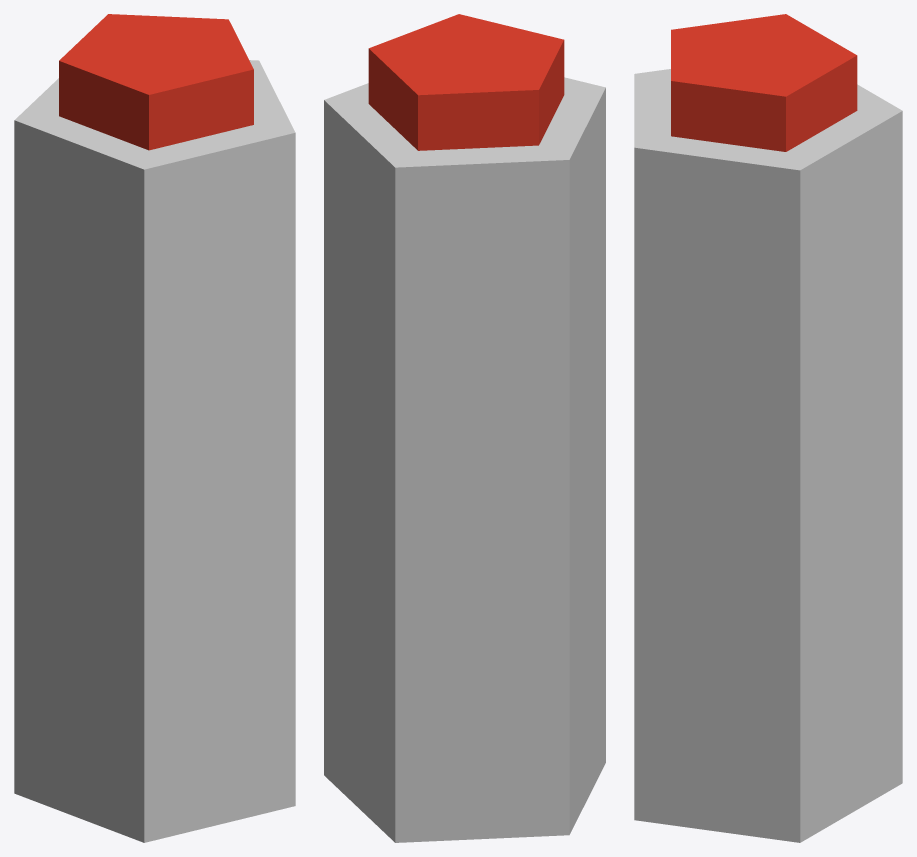
File: button.dae
3 views of the same model, side by side, from view 1: azimuth 30°, elevation 25°; view 2: azimuth 150°, elevation 25°; view 3: azimuth 270°, elevation 25° (orthographic).
Visible parts, largest first — view 1: pedestal, button.001; view 2: pedestal, button.001; view 3: pedestal, button.001.
Boxes of the visible parts, box(x1,y1,x2,y2) form: pedestal: box(14, 60, 295, 842); button.001: box(59, 14, 253, 150); pedestal: box(324, 77, 605, 842); button.001: box(368, 14, 564, 150); pedestal: box(634, 69, 902, 842); button.001: box(671, 14, 857, 151).
Bounding box in the file's own units: 0.3804 × 0.3618 × 1.08.
